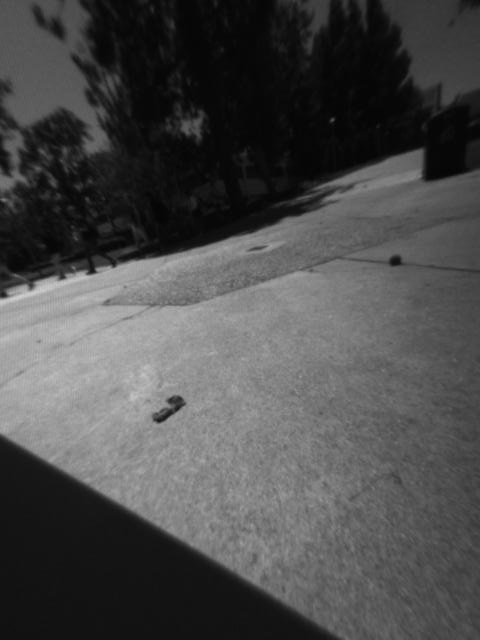dogtoy: (380, 246, 411, 271)
